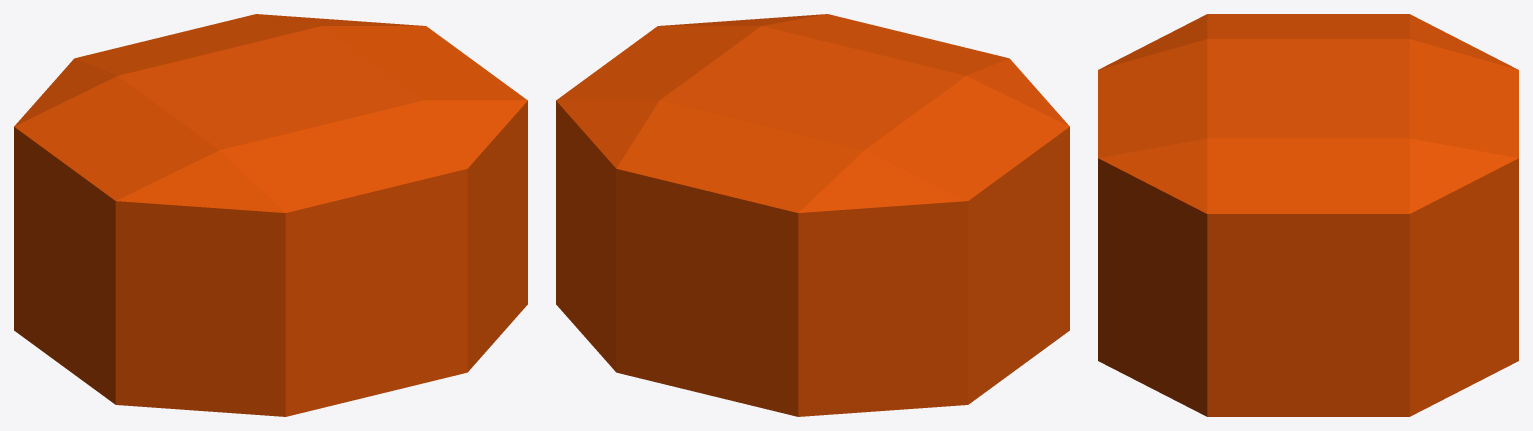
The model's file is Carrots.fbx.
3 renders of one model, left to right at view 1: azimuth 30°, elevation 25°; view 2: azimuth 150°, elevation 25°; view 3: azimuth 270°, elevation 25°, orthographic.
Parts seen in each view (by area): view 1: pCube10; view 2: pCube10; view 3: pCube10.
Part boxes in pixels (x1,y1,x2,y2): pCube10: [14, 14, 527, 416]; pCube10: [556, 14, 1069, 416]; pCube10: [1098, 14, 1518, 416].
Bounding box in the file's own units: 0.7154 × 0.4225 × 0.6355.
